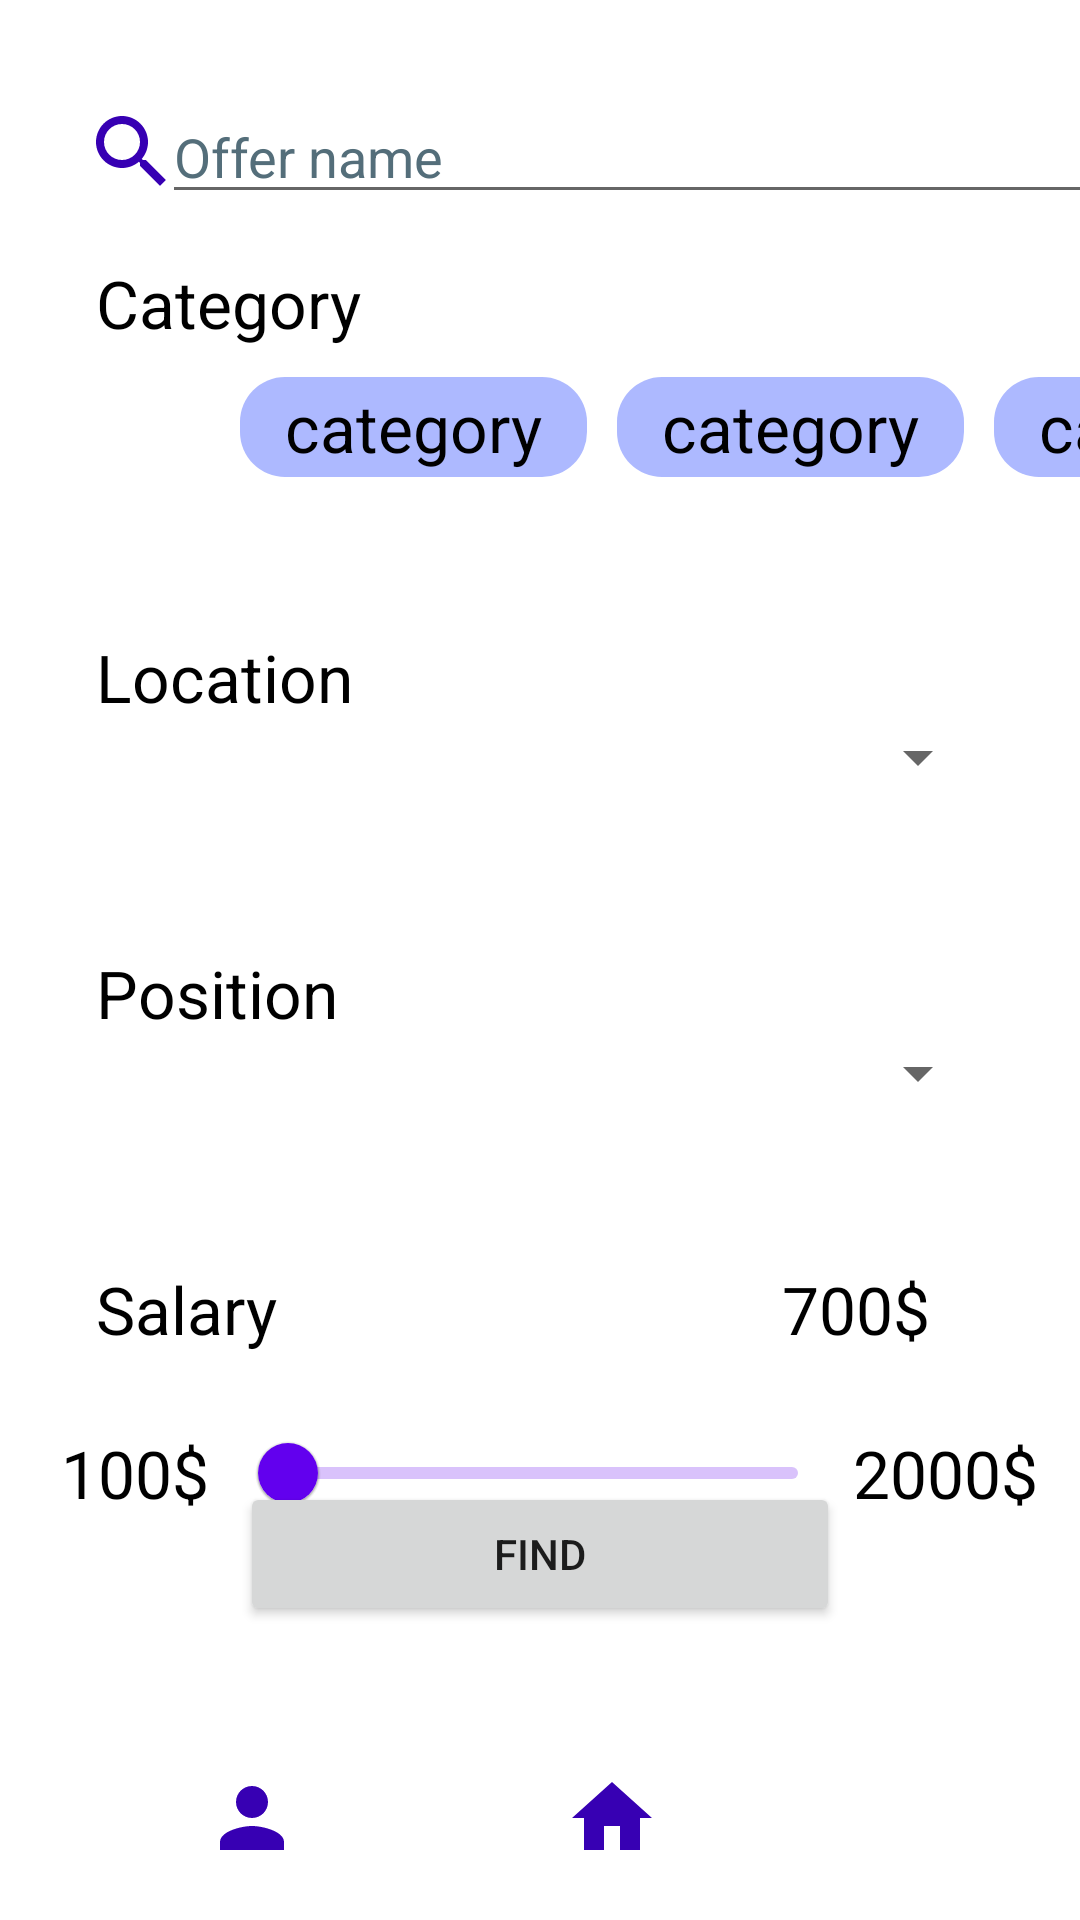

Icon bounding boxes for this 1080x1920 phone screenshot, format (x1, y1, x2, y2):
home: (572, 1782, 652, 1850)
person: (220, 1786, 284, 1850)
